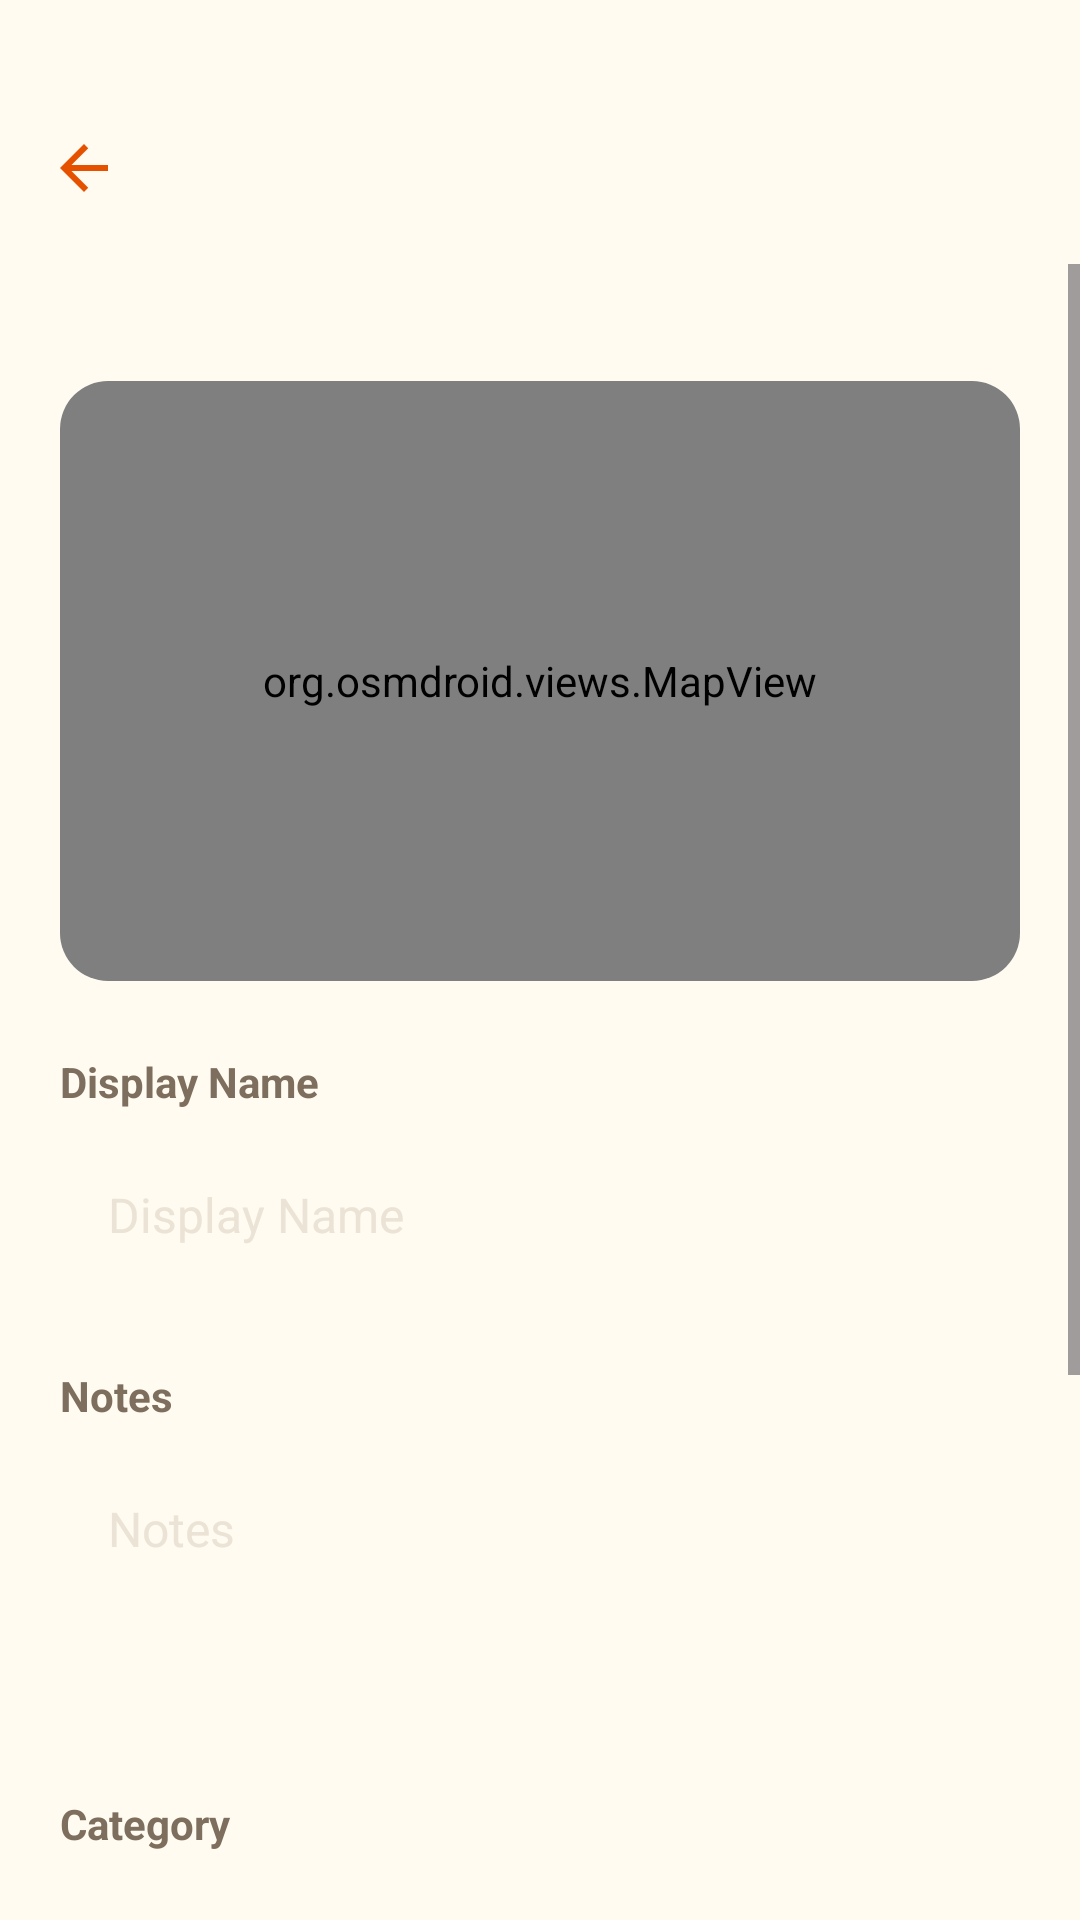

Icon bounding boxes for this 1080 x 1920 phone screenshot, format region(x1, y1, x2, y2):
Back: region(60, 144, 108, 192)
